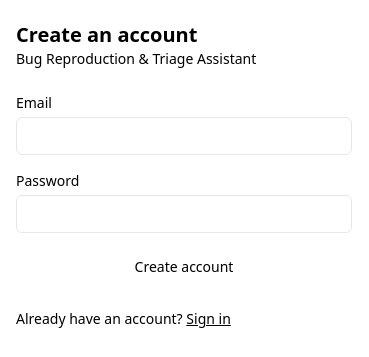
Test: Register › rejects a password under 8 characters before submitting
Type "new@example.com" into the field labelled "Email" at point(184, 136), box [16,117,352,155]
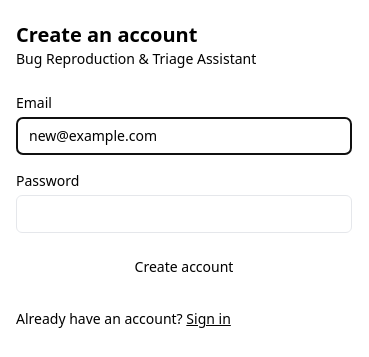
Type "short1" into the password field labelled "Password" at point(184, 214), box [16,195,352,233]
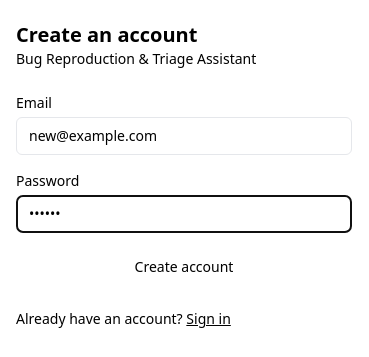
Click the button "Create account" at point(184, 267), box [16,249,352,285]
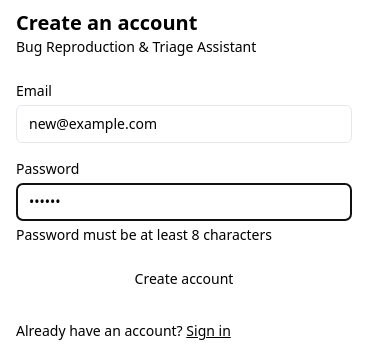
Result: the text "Password must be at least 8 characters" is shown at [16,225,272,244]
